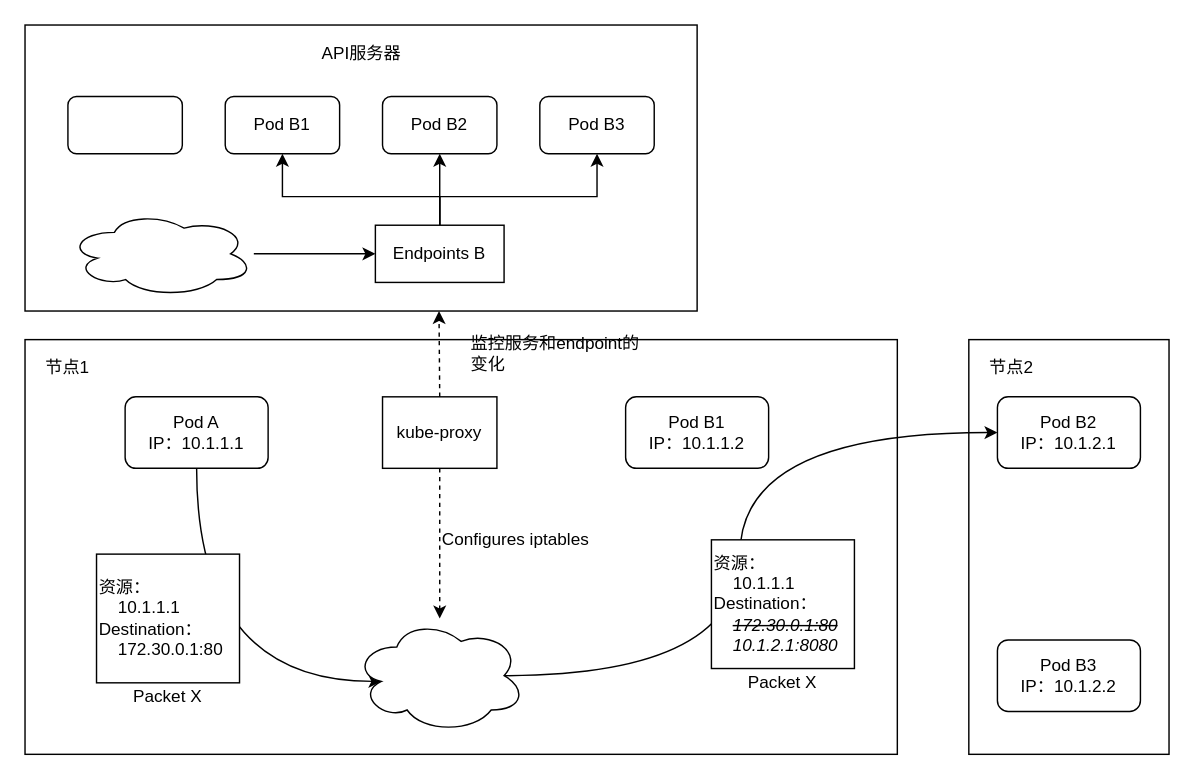
Some shapes in this 1194 by 779 pixel diagram are drawn without their labels. Here are the shapes that lost their labels. From the top down, the centre of each, then its label:
At point 124,124: "Pod A".
At point 160,253: "Service B 172.30.0.1:80".
At point 439,675: "iptables".
